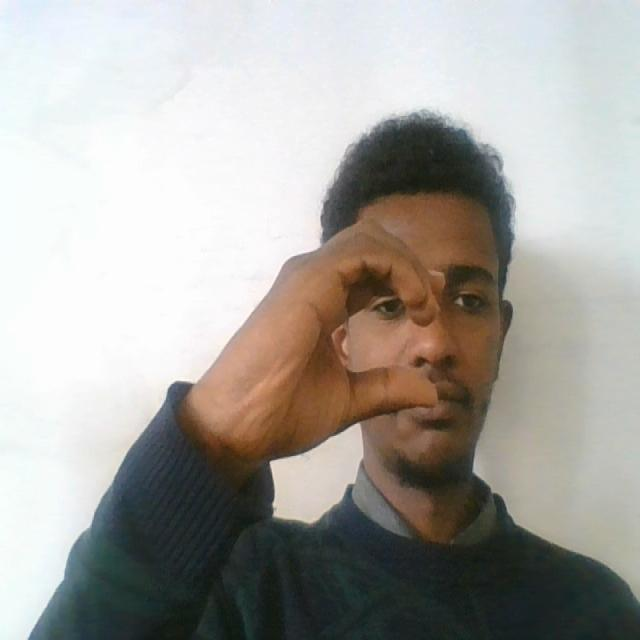no: (214, 203, 445, 441)
